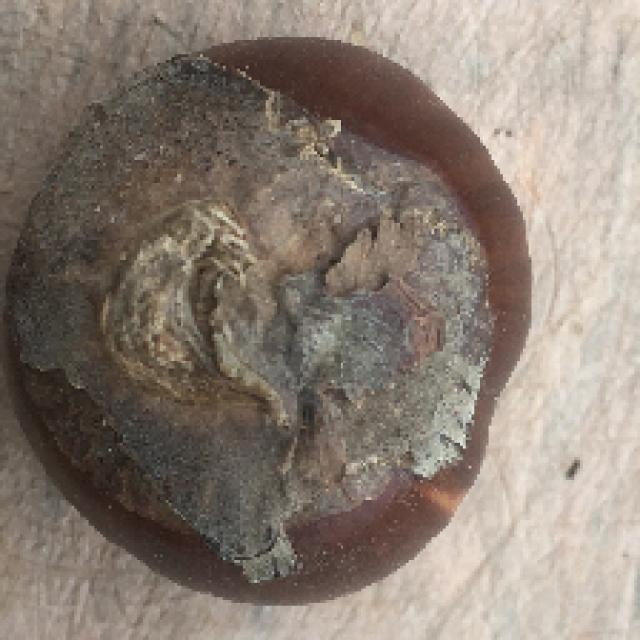damagedHazelnut: (10, 21, 534, 599)
